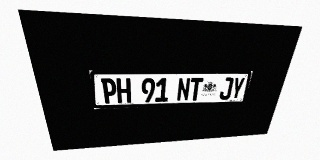1: (155, 78, 169, 102)
9: (142, 78, 155, 102)
H: (116, 78, 131, 103)
J: (219, 77, 234, 100)
N: (176, 78, 191, 101)
P: (101, 78, 117, 104)
T: (189, 78, 203, 101)
Y: (230, 77, 245, 99)
